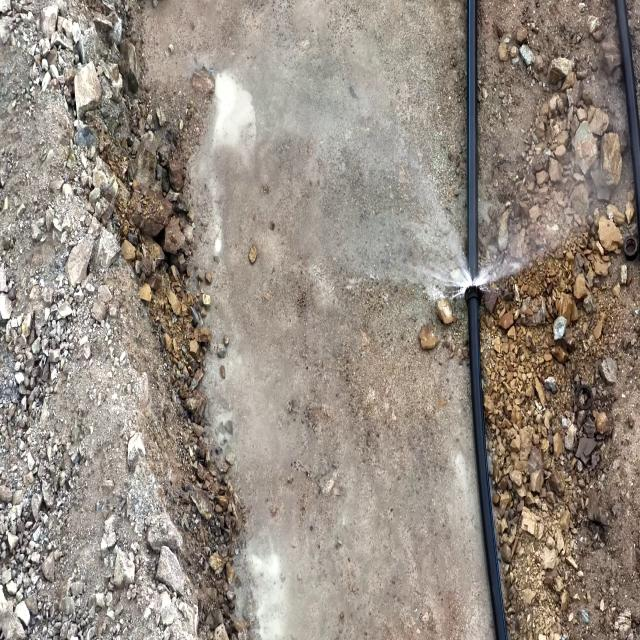leak: (375, 179, 581, 301)
